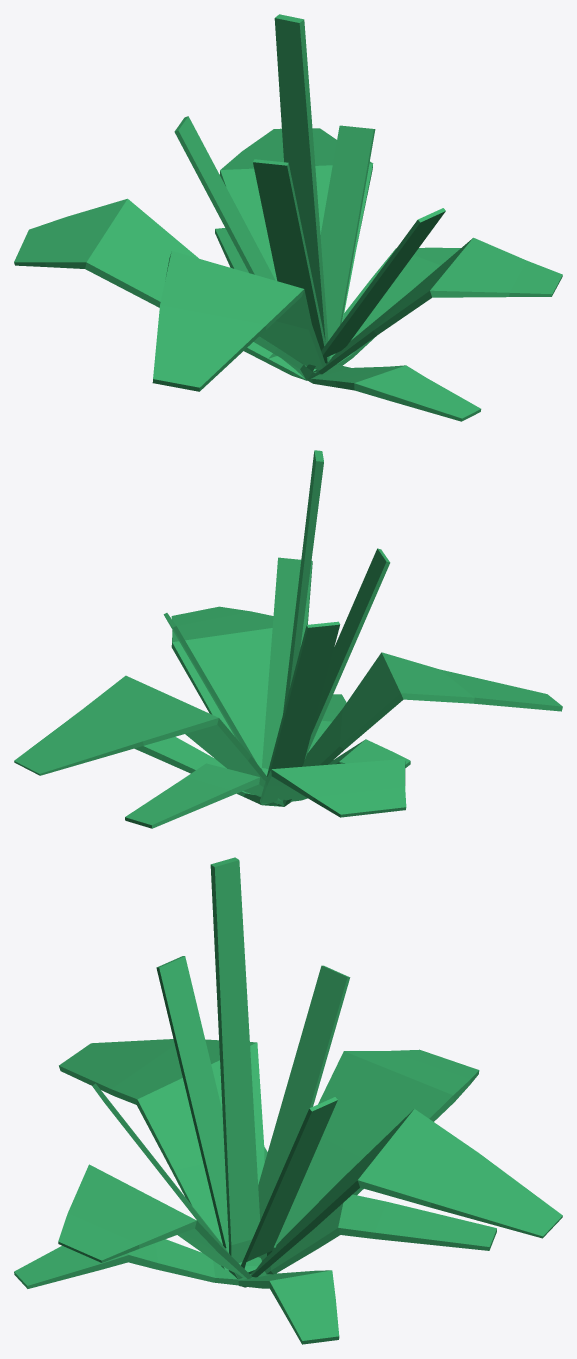
The model's file is plantFern_002_grp.fbx.
3 views of the same model, one above another, from view 1: azimuth 30°, elevation 25°; view 2: azimuth 150°, elevation 25°; view 3: azimuth 270°, elevation 25° (orthographic). The views are drawn at different scales.
Visible parts, largest first — view 1: plantFern_002_grp; view 2: plantFern_002_grp; view 3: plantFern_002_grp.
Boxes of the visible parts, x1,y1,x2,y2 form: plantFern_002_grp: (14,14,562,421); plantFern_002_grp: (14,450,562,828); plantFern_002_grp: (14,857,562,1344).
Bounding box in the file's own units: 250 × 200 × 250.
